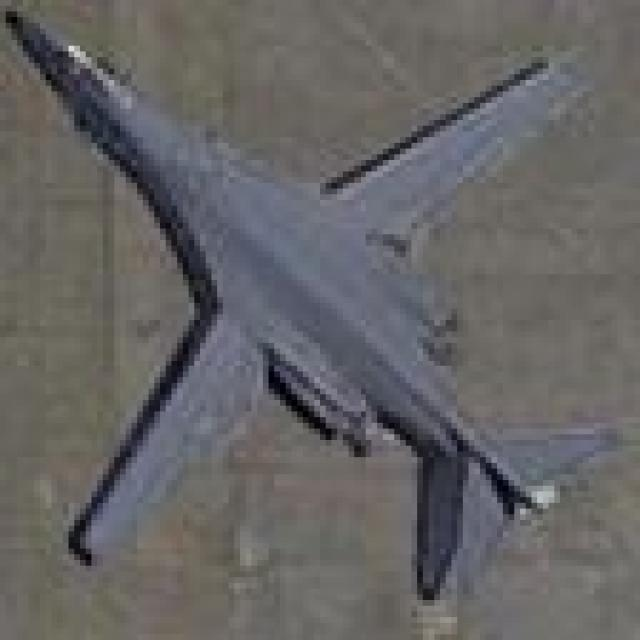B-1_TopDown: (0, 0, 611, 600)
